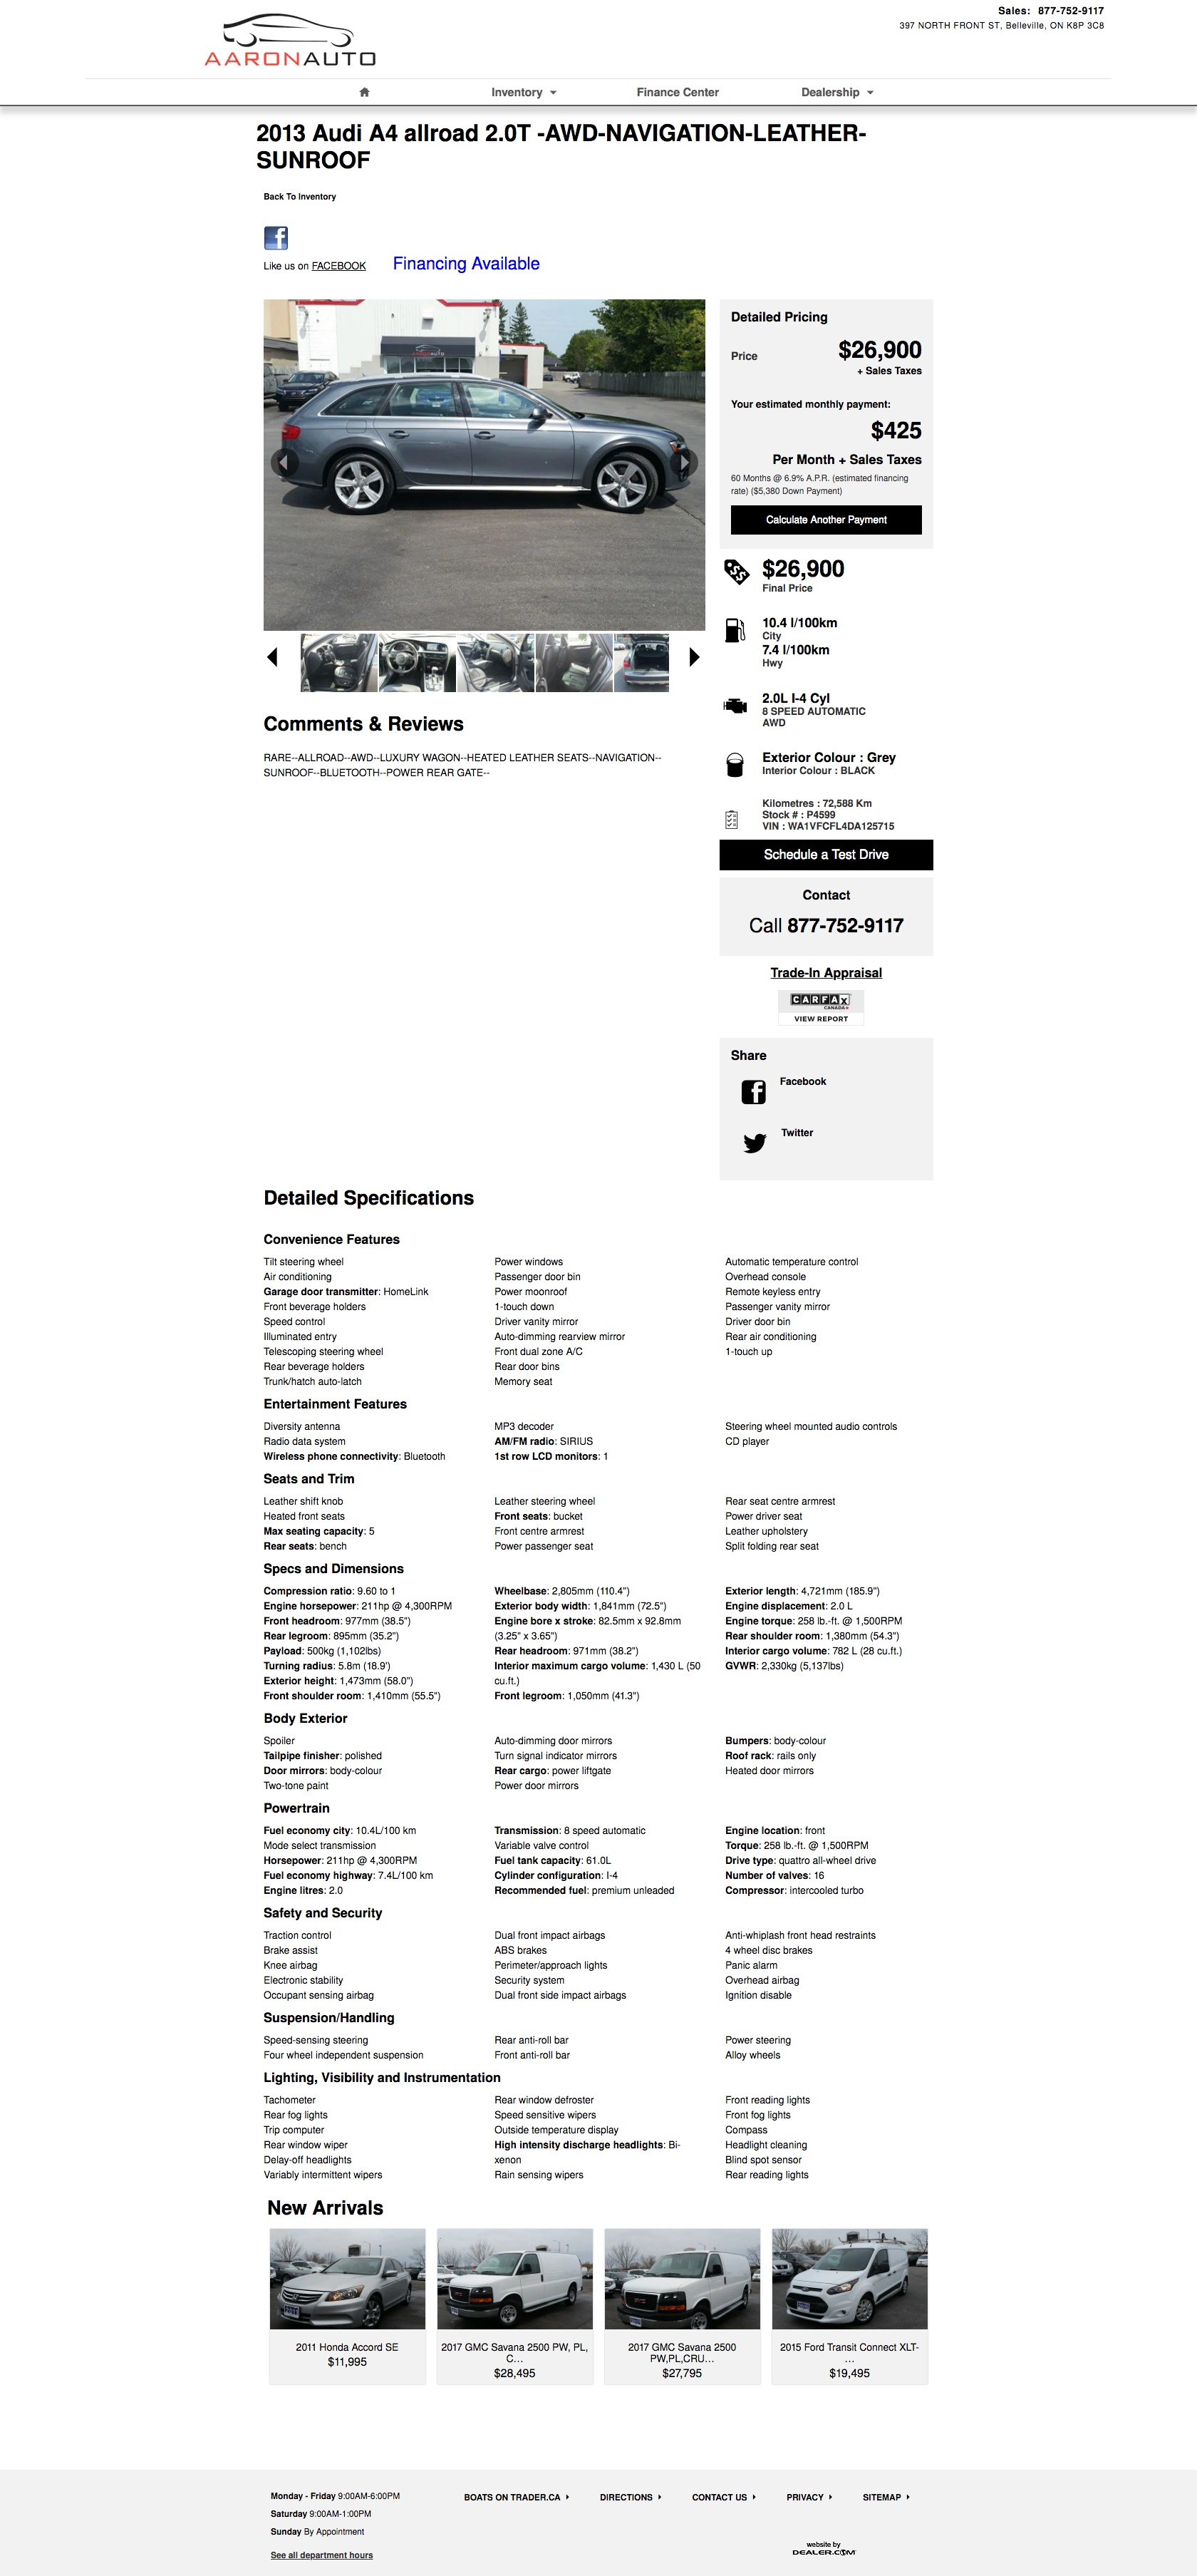car: (690, 647, 701, 669)
